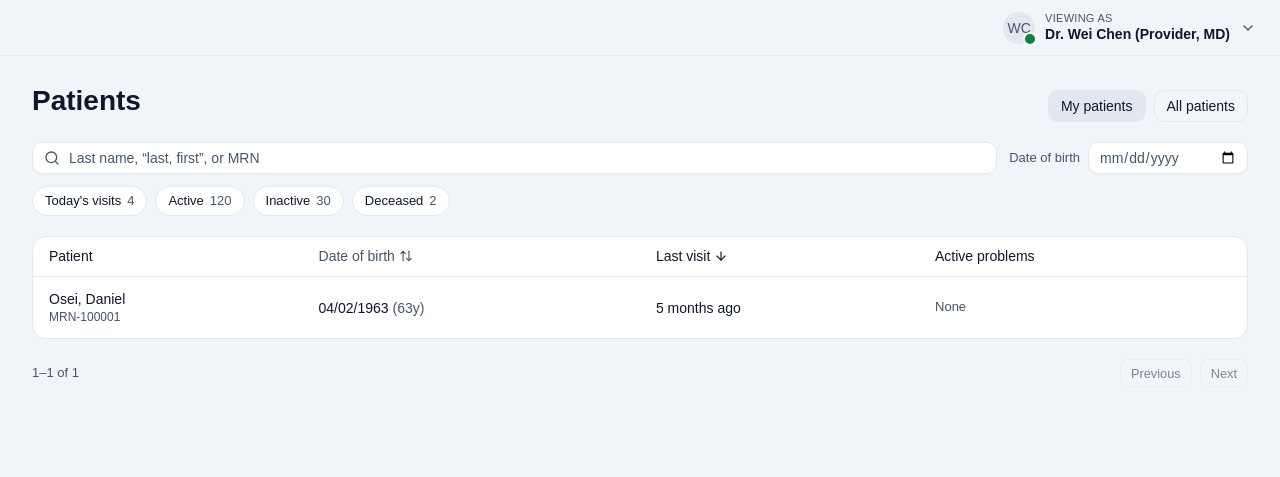
Scenario: search › explains a search with no matches and clears it
Type "zzzz" into the search field named "Search patients".
click(515, 158); type("zzzz")  # box x1=32 y1=142 x2=997 y2=174
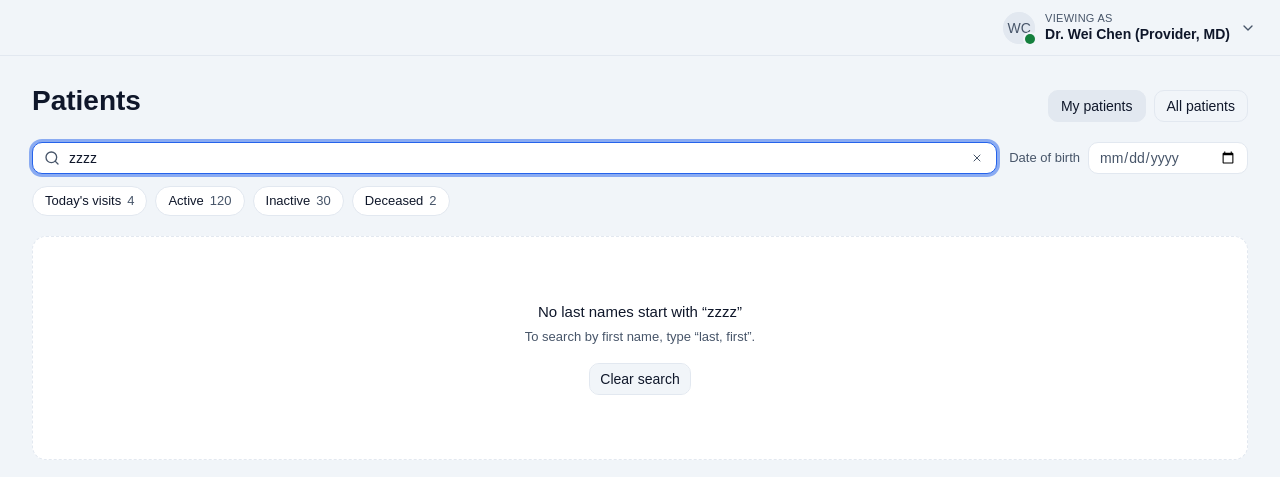
Click the button "Clear search".
click(640, 378)  # box x1=589 y1=362 x2=691 y2=394
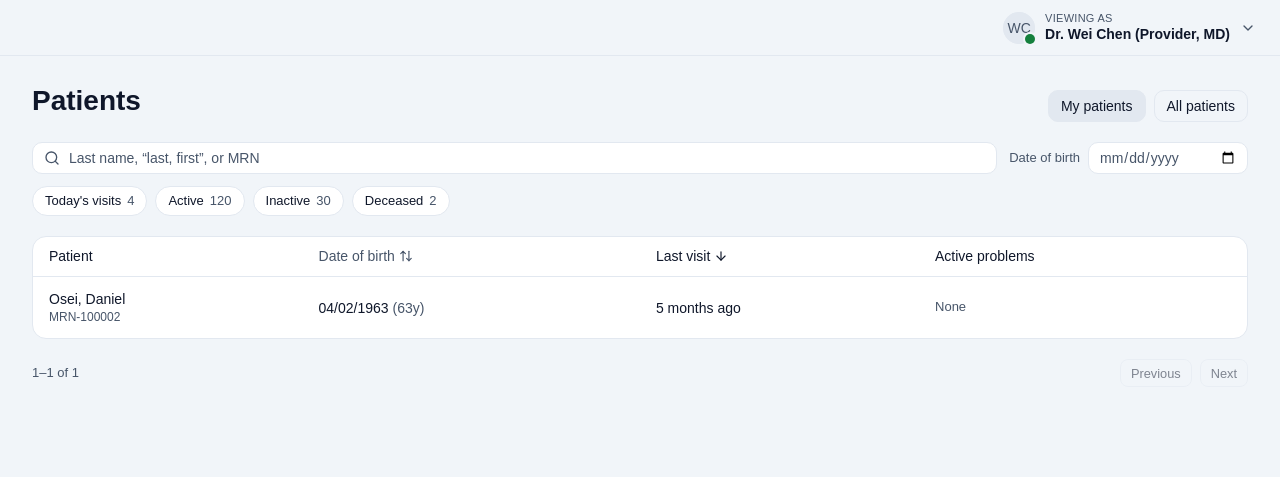
Now the search field named "Search patients" is empty, box x1=32 y1=142 x2=997 y2=174
Now the text "No last names start with" is gone
Now the number of rows "Osei, Daniel MRN-100002 04/02/1963 (63y) 5 months ago None" is 1, box x1=33 y1=276 x2=1247 y2=338
